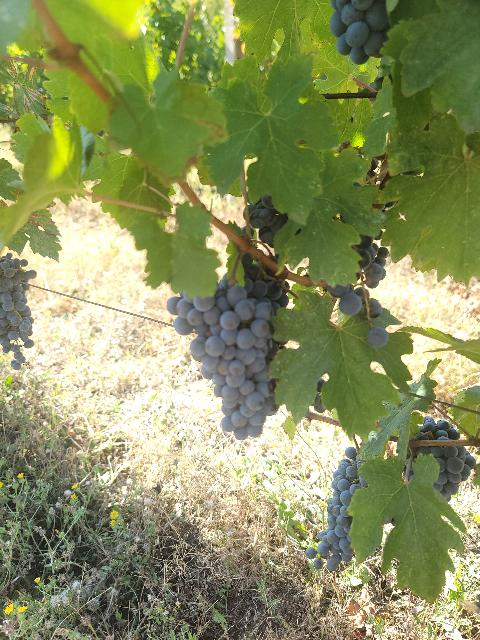grapes: (166, 260, 289, 440), (305, 448, 368, 570), (402, 416, 476, 501), (0, 252, 36, 370)
